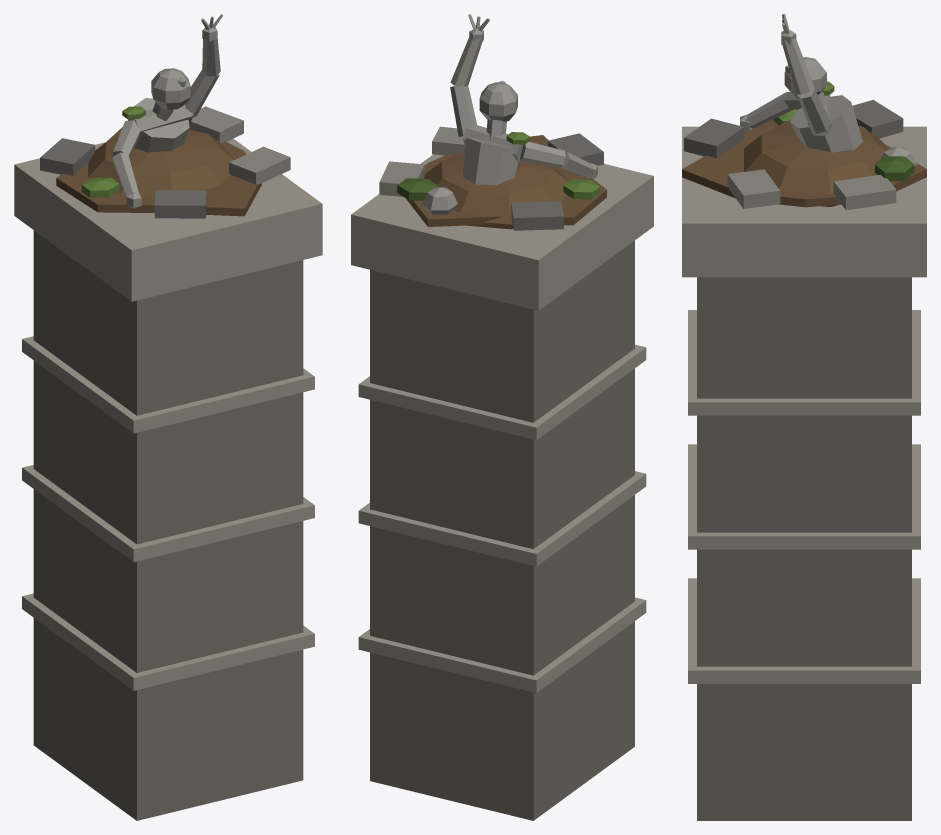
File: decor_petrified_sunken.glb
3 views of the same model, side by side, from view 1: azimuth 30°, elevation 25°; view 2: azimuth 150°, elevation 25°; view 3: azimuth 270°, elevation 25° (orthographic). The views are drawn at different scales.
Parts seen in each view (by area): view 1: decor_petrified_sunken; view 2: decor_petrified_sunken; view 3: decor_petrified_sunken.
Boxes of the visible parts, box(x1,y1,x2,y2) form: decor_petrified_sunken: box(14, 14, 322, 820); decor_petrified_sunken: box(351, 14, 653, 820); decor_petrified_sunken: box(682, 14, 926, 820).
Size of the model in its own units: 1.55 by 5.8 by 1.65.
